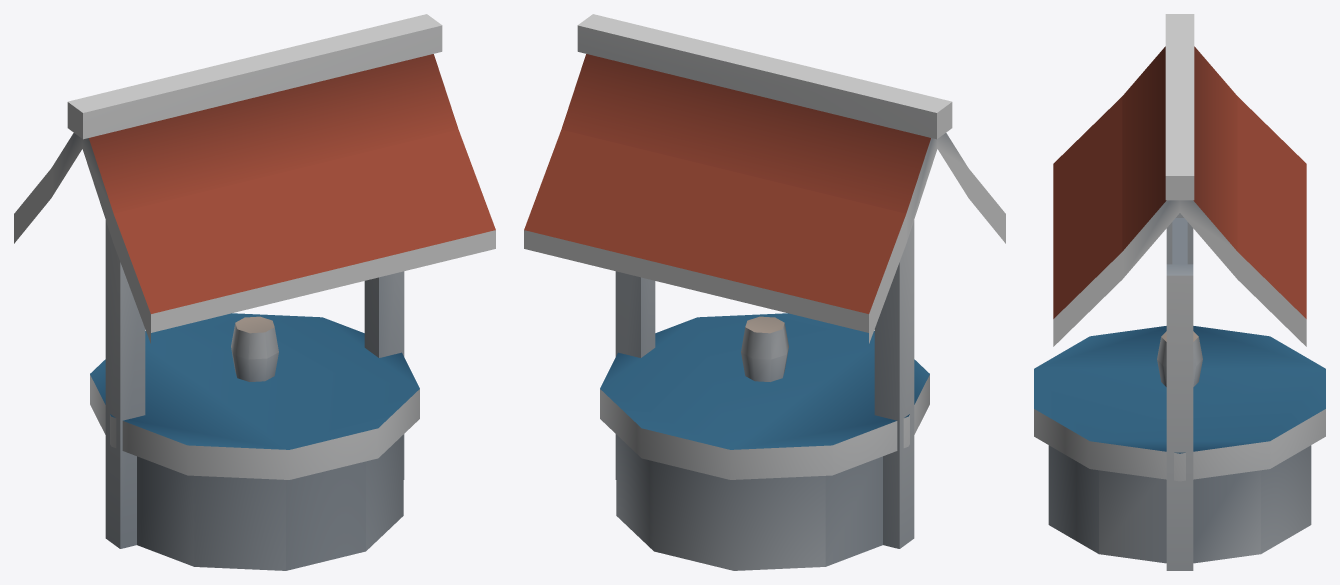
The model's file is prop_well.glb.
3 renders of one model, left to right at view 1: azimuth 30°, elevation 25°; view 2: azimuth 150°, elevation 25°; view 3: azimuth 270°, elevation 25°, orthographic. The views are drawn at different scales.
Visible parts, largest first — view 1: prop_well; view 2: prop_well; view 3: prop_well.
Part boxes in pixels (left/top/right/bottom): prop_well: left=14, top=14, right=495, bottom=570; prop_well: left=524, top=14, right=1005, bottom=570; prop_well: left=1034, top=14, right=1325, bottom=570.
Size of the model in its own units: 1 by 1.19 by 0.7608.
